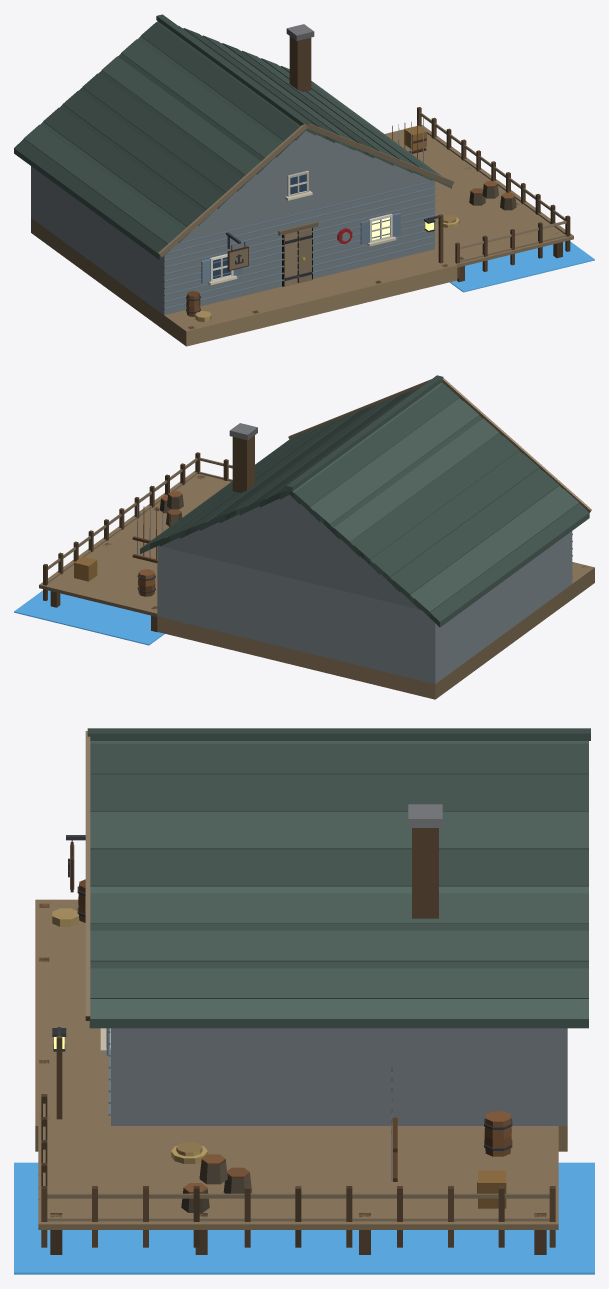
The model's file is harbour_tackle.glb.
3 renders of one model, top to bottom at view 1: azimuth 30°, elevation 25°; view 2: azimuth 150°, elevation 25°; view 3: azimuth 270°, elevation 25°, orthographic. The views are drawn at different scales.
Visible parts, largest first — view 1: harbour_tackle_body, harbour_tackle_ground; view 2: harbour_tackle_body, harbour_tackle_ground; view 3: harbour_tackle_body, harbour_tackle_ground.
Part boxes in pixels (left/top/right/bottom): harbour_tackle_body: left=14, top=14, right=573, bottom=329; harbour_tackle_ground: left=163, top=241, right=594, bottom=346; harbour_tackle_body: left=39, top=375, right=591, bottom=699; harbour_tackle_ground: left=14, top=562, right=594, bottom=645; harbour_tackle_body: left=38, top=728, right=590, bottom=1254; harbour_tackle_ground: left=14, top=899, right=594, bottom=1274.
Size of the model in its own units: 20.13 by 8.94 by 14.28.
